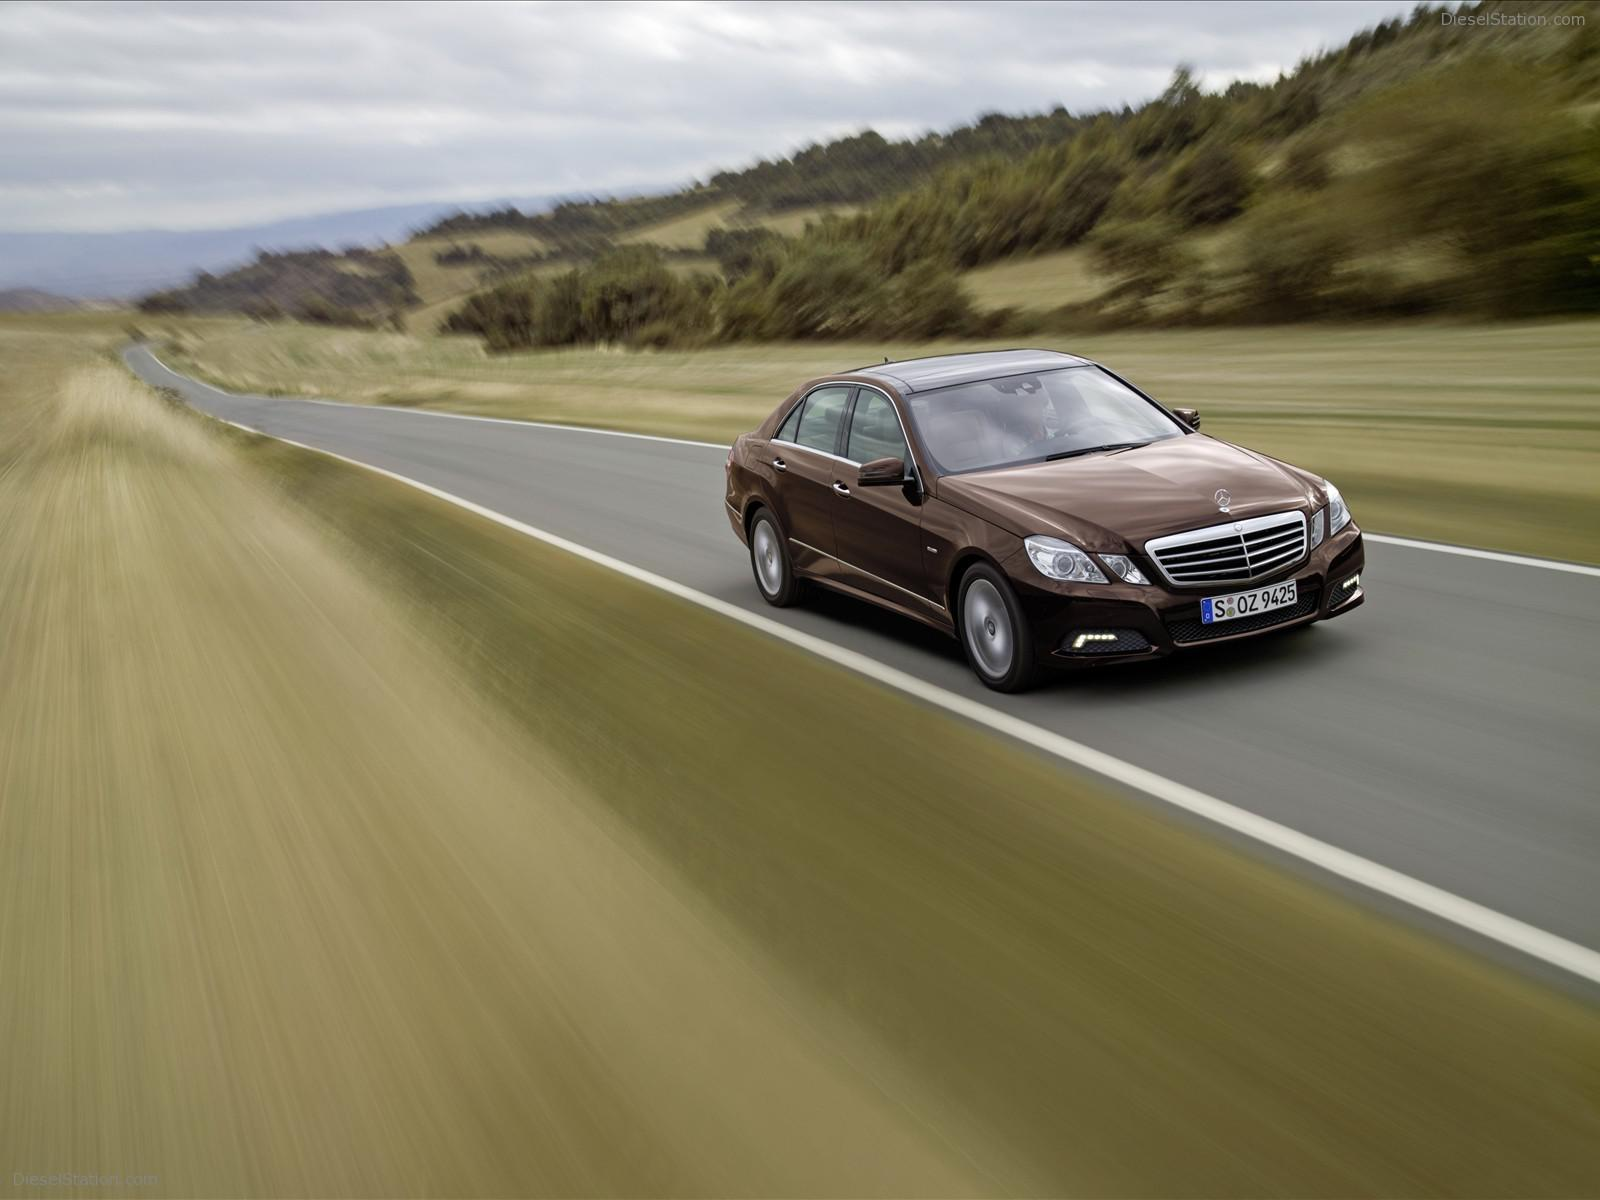Car: (706, 308, 1388, 737)
